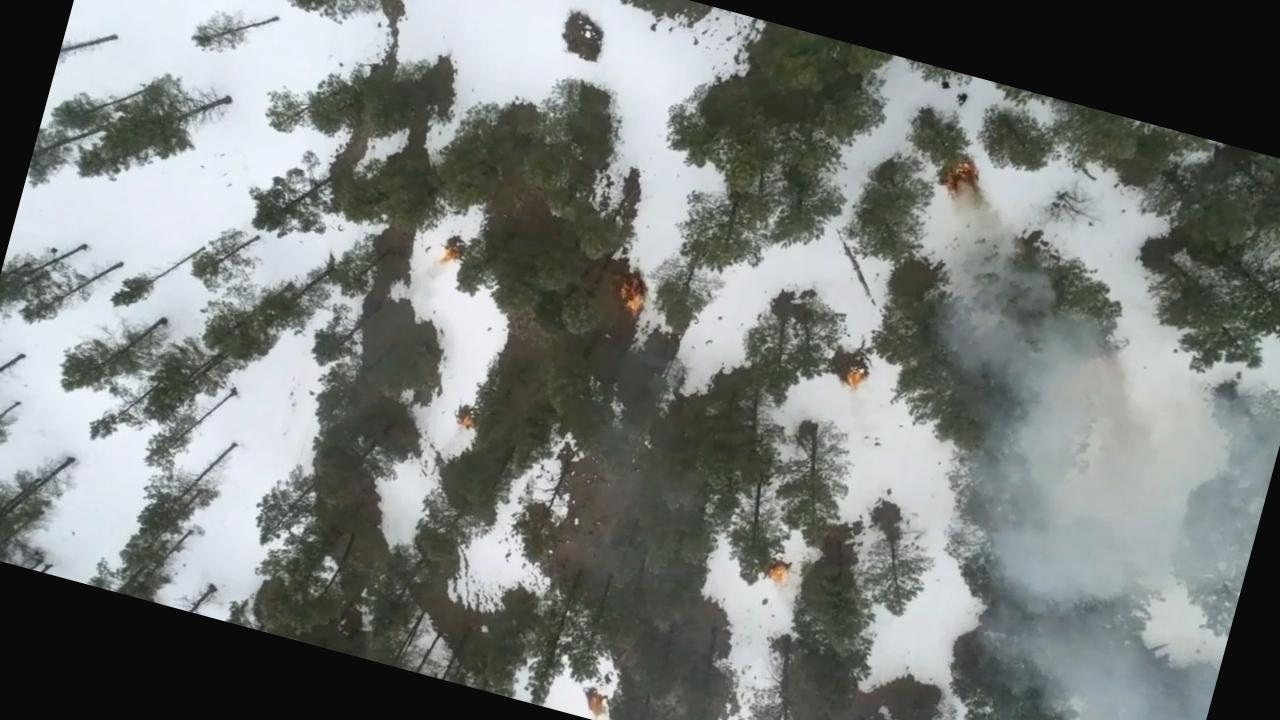fire: (602, 266, 656, 328), (936, 156, 993, 206), (836, 359, 874, 400), (761, 556, 797, 594)
smoke: (867, 331, 1280, 644), (925, 584, 1224, 720)
